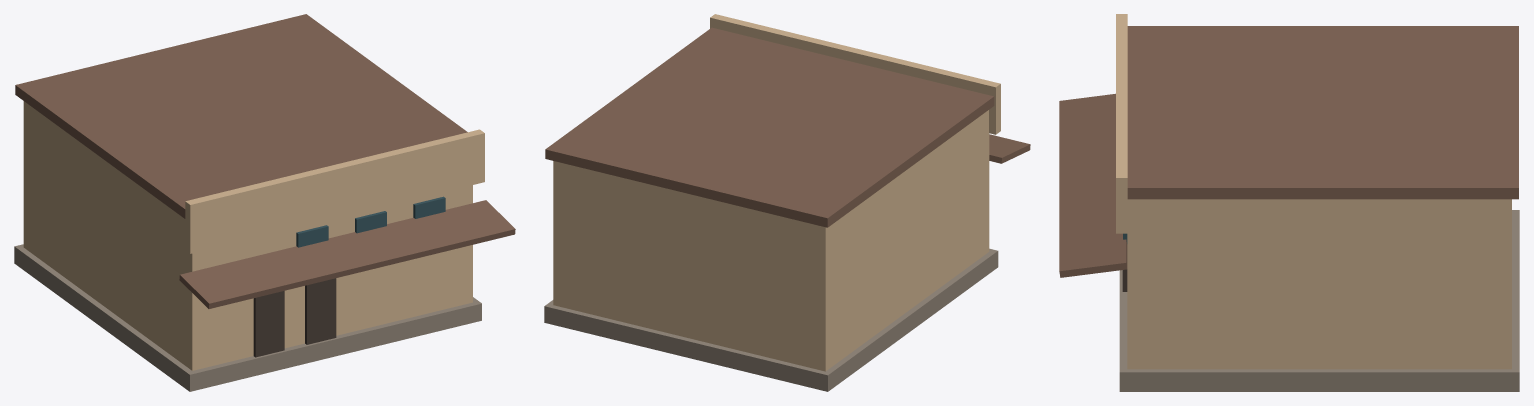
File: arizona-shop-awning_lod1.glb
The picture shows the model from 3 angles, left to right: view 1: azimuth 30°, elevation 25°; view 2: azimuth 150°, elevation 25°; view 3: azimuth 270°, elevation 25°; orthographic projection. The views are drawn at different scales.
Visible parts, largest first — view 1: RF_AZ_Awning_Roof, RF_AZ_Awning_Walls, RF_AZ_Awning_Parapet, RF_AZ_Awning_Canopy, RF_AZ_Awning_Foundation, RF_AZ_Awning_Door.001, RF_AZ_Awning_Door, RF_AZ_Awning_Window, RF_AZ_Awning_Window.002, RF_AZ_Awning_Window.001; view 2: RF_AZ_Awning_Walls, RF_AZ_Awning_Roof, RF_AZ_Awning_Foundation, RF_AZ_Awning_Parapet, RF_AZ_Awning_Canopy; view 3: RF_AZ_Awning_Roof, RF_AZ_Awning_Walls, RF_AZ_Awning_Foundation, RF_AZ_Awning_Canopy, RF_AZ_Awning_Parapet.
Boxes of the visible parts, bbox=[...] form: RF_AZ_Awning_Roof: bbox=[15, 14, 467, 218]; RF_AZ_Awning_Walls: bbox=[23, 101, 472, 370]; RF_AZ_Awning_Parapet: bbox=[185, 129, 484, 253]; RF_AZ_Awning_Canopy: bbox=[179, 200, 515, 308]; RF_AZ_Awning_Foundation: bbox=[14, 244, 481, 391]; RF_AZ_Awning_Door.001: bbox=[305, 278, 336, 344]; RF_AZ_Awning_Door: bbox=[253, 291, 284, 357]; RF_AZ_Awning_Window: bbox=[296, 225, 328, 247]; RF_AZ_Awning_Window.002: bbox=[413, 196, 445, 218]; RF_AZ_Awning_Window.001: bbox=[355, 211, 386, 233]; RF_AZ_Awning_Walls: bbox=[553, 110, 989, 371]; RF_AZ_Awning_Roof: bbox=[545, 27, 994, 227]; RF_AZ_Awning_Foundation: bbox=[544, 248, 998, 391]; RF_AZ_Awning_Parapet: bbox=[710, 14, 1000, 134]; RF_AZ_Awning_Canopy: bbox=[989, 134, 1030, 163]; RF_AZ_Awning_Roof: bbox=[1127, 26, 1518, 199]; RF_AZ_Awning_Walls: bbox=[1127, 199, 1511, 369]; RF_AZ_Awning_Foundation: bbox=[1119, 210, 1519, 391]; RF_AZ_Awning_Canopy: bbox=[1059, 93, 1127, 277]; RF_AZ_Awning_Parapet: bbox=[1116, 14, 1127, 233].
Size of the model in its own units: 13.1 by 7.7 by 14.96.
